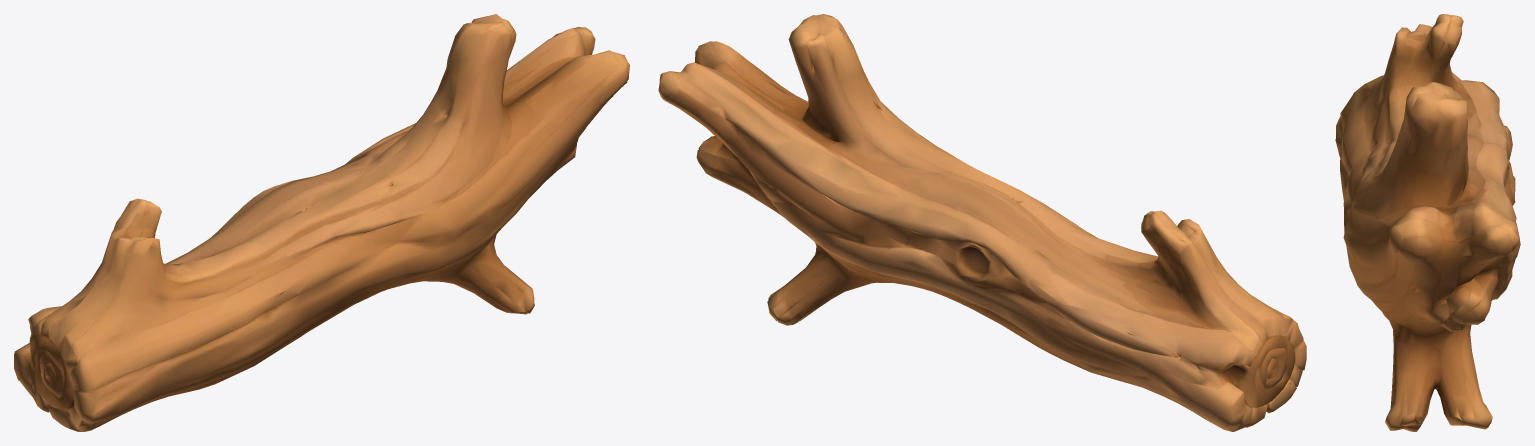
Rendered from log_branch.glb.
The picture shows the model from 3 angles, left to right: view 1: azimuth 30°, elevation 25°; view 2: azimuth 150°, elevation 25°; view 3: azimuth 270°, elevation 25°; orthographic projection. The views are drawn at different scales.
Parts seen in each view (by area): view 1: tripo_node_833eab30-f15b-4617-af9c-48aab80c81a3; view 2: tripo_node_833eab30-f15b-4617-af9c-48aab80c81a3; view 3: tripo_node_833eab30-f15b-4617-af9c-48aab80c81a3.
Boxes of the visible parts, <box> form: tripo_node_833eab30-f15b-4617-af9c-48aab80c81a3: <box>14,14,629,431</box>; tripo_node_833eab30-f15b-4617-af9c-48aab80c81a3: <box>658,14,1306,431</box>; tripo_node_833eab30-f15b-4617-af9c-48aab80c81a3: <box>1335,14,1520,431</box>.
Size of the model in its own units: 1.45 by 0.7004 by 0.3519.
1 material, 1 textured.
